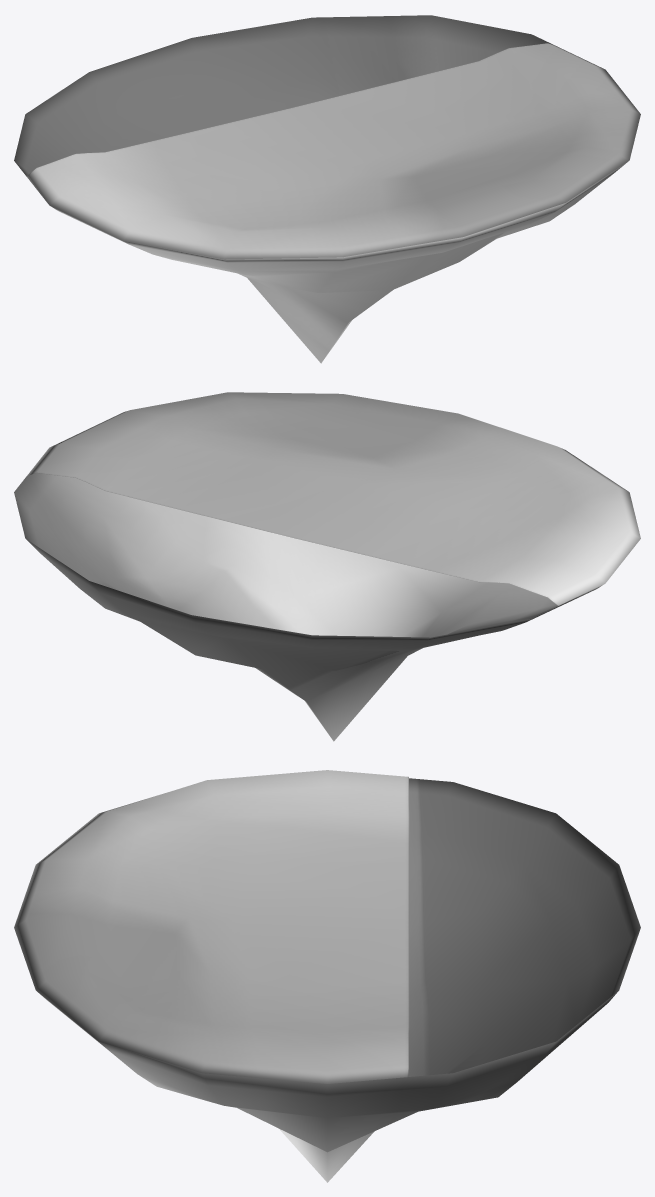
Rendered from platform.dae.
3 views of the same model, one above another, from view 1: azimuth 30°, elevation 25°; view 2: azimuth 150°, elevation 25°; view 3: azimuth 270°, elevation 25° (orthographic). The views are drawn at different scales.
Parts seen in each view (by area): view 1: pCube1; view 2: pCube1; view 3: pCube1.
Boxes of the visible parts, x1,y1,x2,y2 form: pCube1: [14, 15, 640, 363]; pCube1: [14, 392, 640, 741]; pCube1: [14, 770, 640, 1182].
Bounding box in the file's own units: 9.97 × 4.03 × 8.44.
